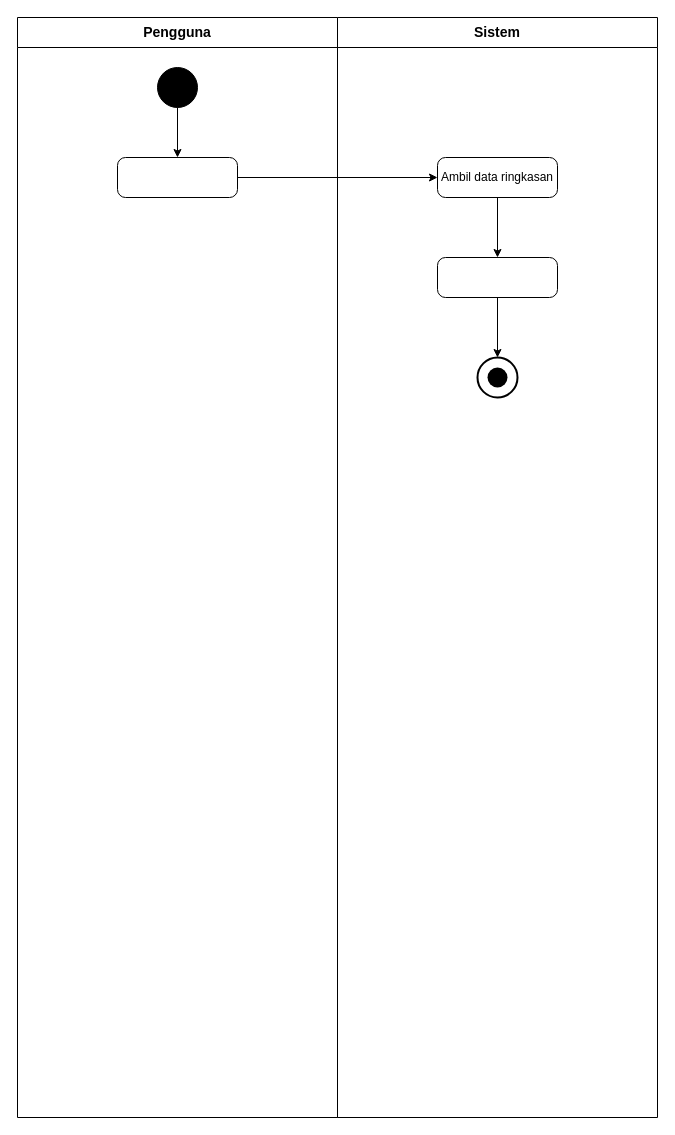
This 675x1135 diagram has some shape labels left out. Here are the shapes that lost their labels. From the top down, the centre of each, then its label:
At [177,177]: "Buka menu Dashboard".
At [497,277]: "Tampil informasi ringkas".
